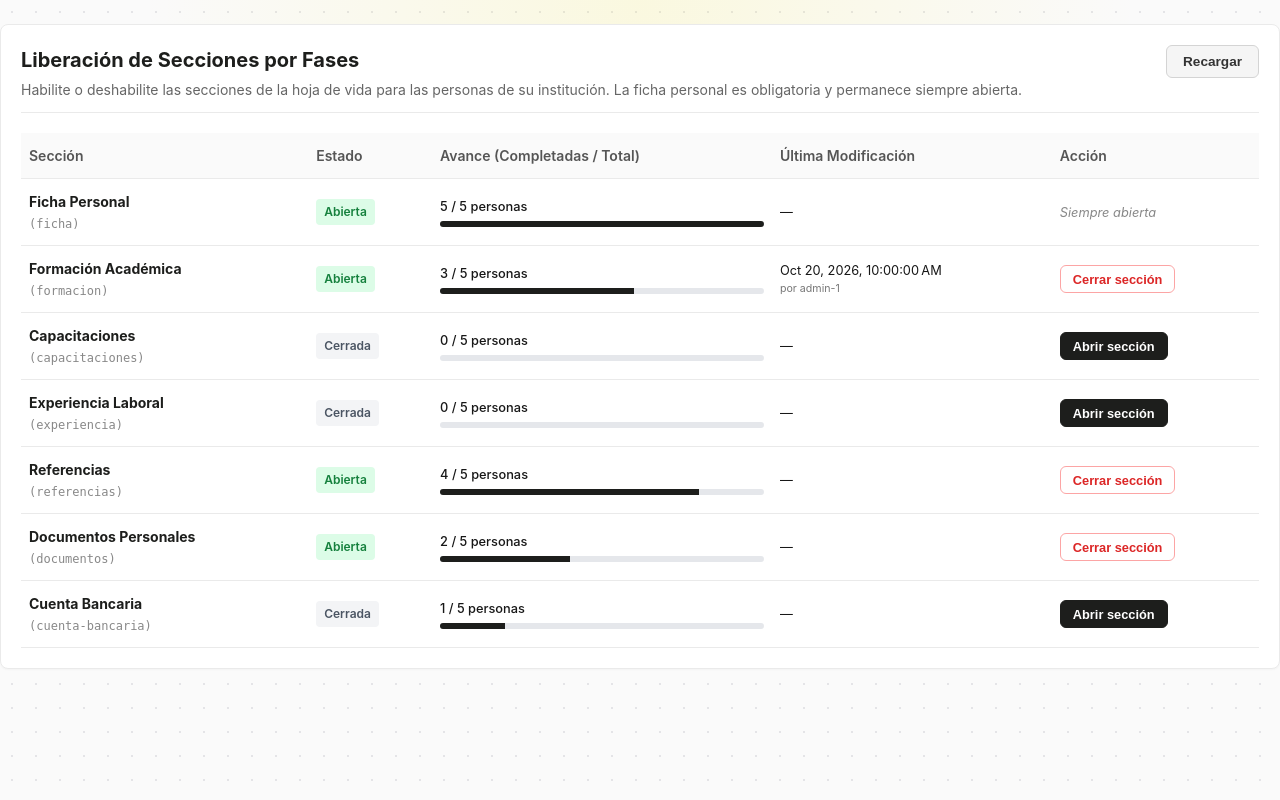
Test: SeccionesComponent › abrir_y_cerrar_seccion_cambia_estado_exitosamente
Click the button with test id "btn-toggle-capacitaciones" at point(1114, 346), box 1060,332 -> 1168,360
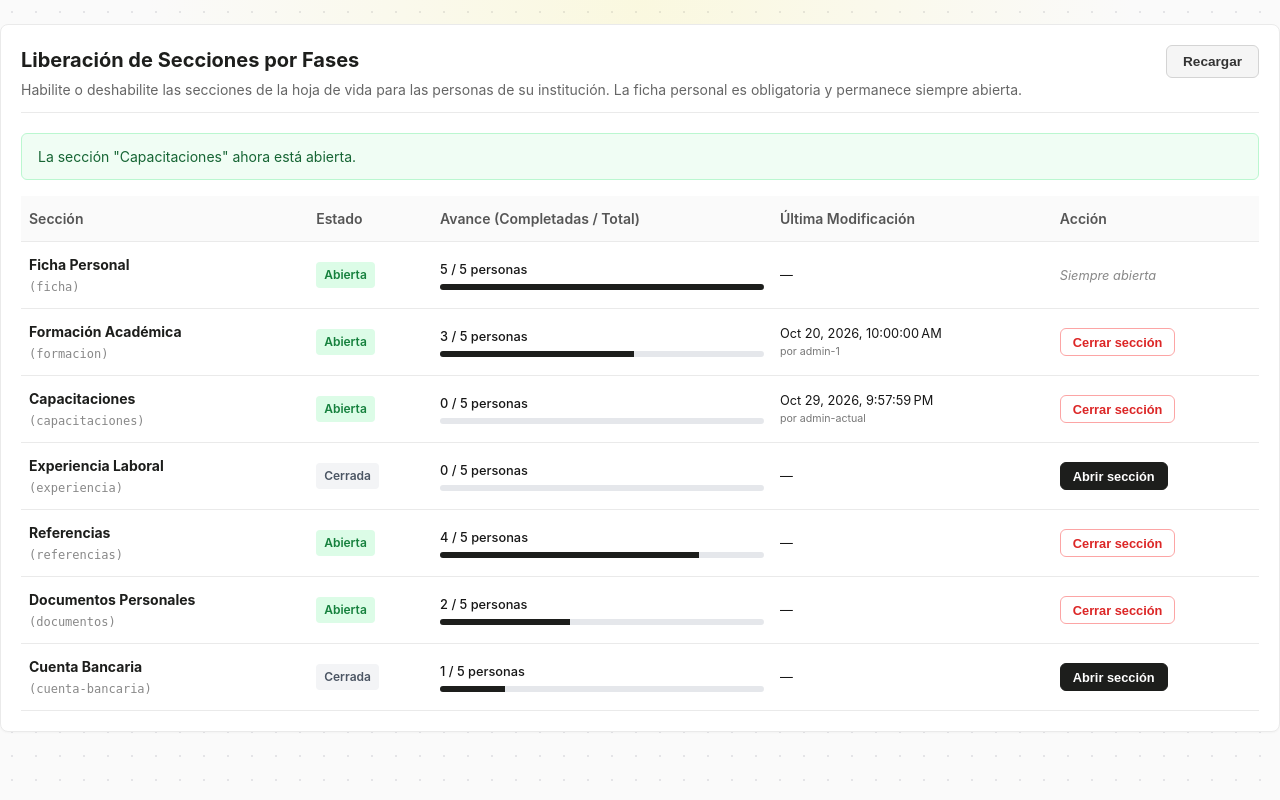
Expected: the text "Abierta" in the row of "(ficha)" is shown, 324,267 -> 367,282
Expected: the message with test id "exito-secciones" shows "ahora está abierta", 38,148 -> 356,165
